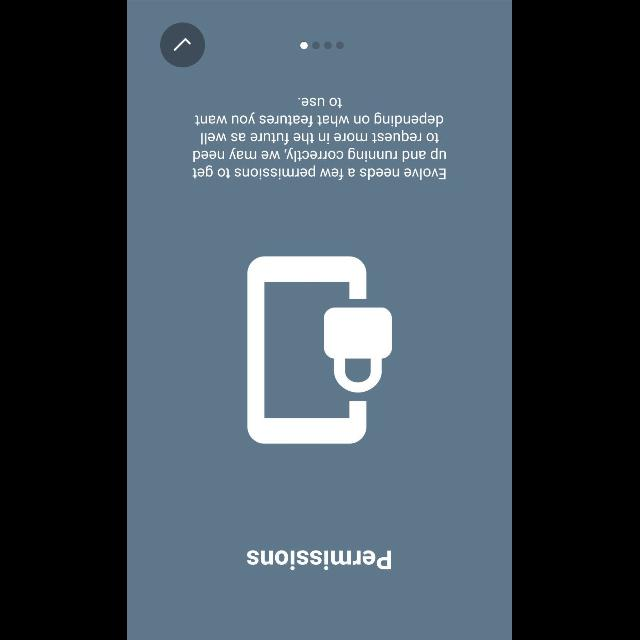button: (160, 22, 206, 68)
image: (248, 256, 392, 444)
pageindicator: (301, 40, 345, 50)
text: (193, 98, 447, 180), (248, 550, 392, 570)
